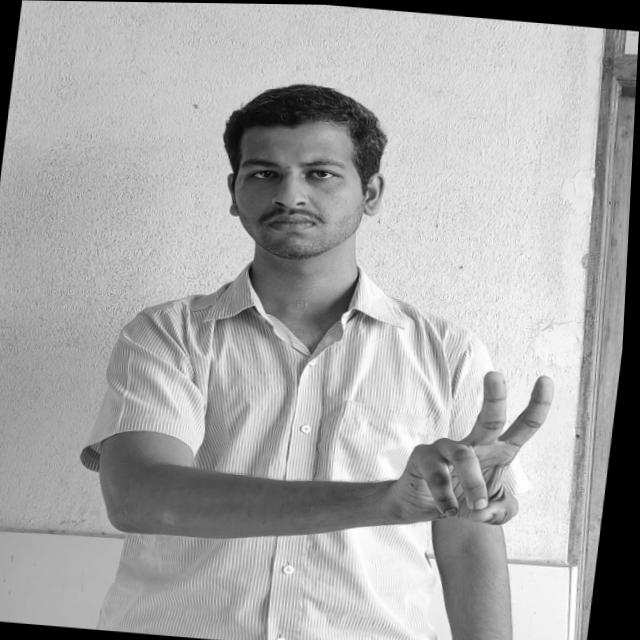Victory: (396, 364, 584, 529)
